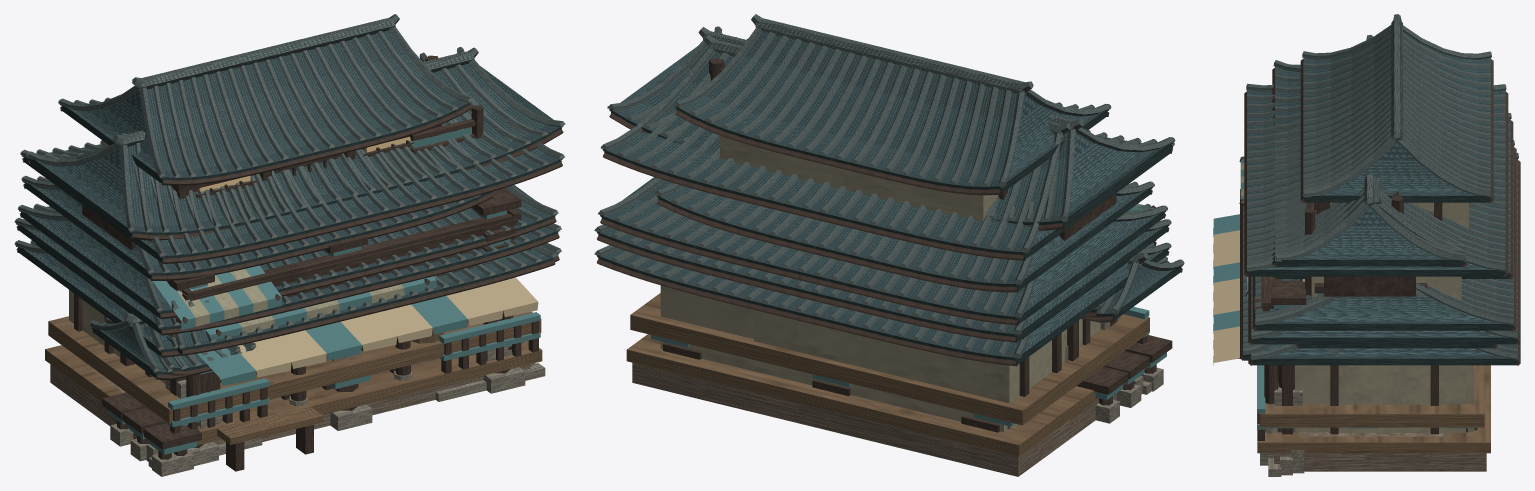
The model's file is regional_harbor.glb.
3 views of the same model, side by side, from view 1: azimuth 30°, elevation 25°; view 2: azimuth 150°, elevation 25°; view 3: azimuth 270°, elevation 25° (orthographic). The views are drawn at different scales.
Parts seen in each view (by area): view 1: wing, gate, inn, hall, shop, home, cottage; view 2: wing, hall, inn, gate, home, cottage; view 3: wing, inn, gate, hall, home, shop, cottage.
Boxes of the visible parts, <box> form: wing: <box>18,14,558,445</box>; gate: <box>26,47,565,476</box>; inn: <box>20,50,564,444</box>; hall: <box>21,55,541,472</box>; shop: <box>35,242,538,471</box>; home: <box>14,123,561,400</box>; cottage: <box>14,240,561,357</box>; wing: <box>598,14,1167,456</box>; hall: <box>630,57,1167,429</box>; inn: <box>600,35,1174,476</box>; gate: <box>607,26,1184,423</box>; home: <box>594,219,1171,431</box>; cottage: <box>594,242,1171,366</box>; wing: <box>1252,14,1516,453</box>; inn: <box>1240,81,1508,471</box>; gate: <box>1239,35,1467,476</box>; hall: <box>1246,113,1513,465</box>; home: <box>1248,153,1520,434</box>; shop: <box>1213,214,1497,365</box>; cottage: <box>1248,277,1520,365</box>.
Size of the model in its own units: 2.25 by 1.63 by 1.47.
Materials: 1 (1 with a texture image).
